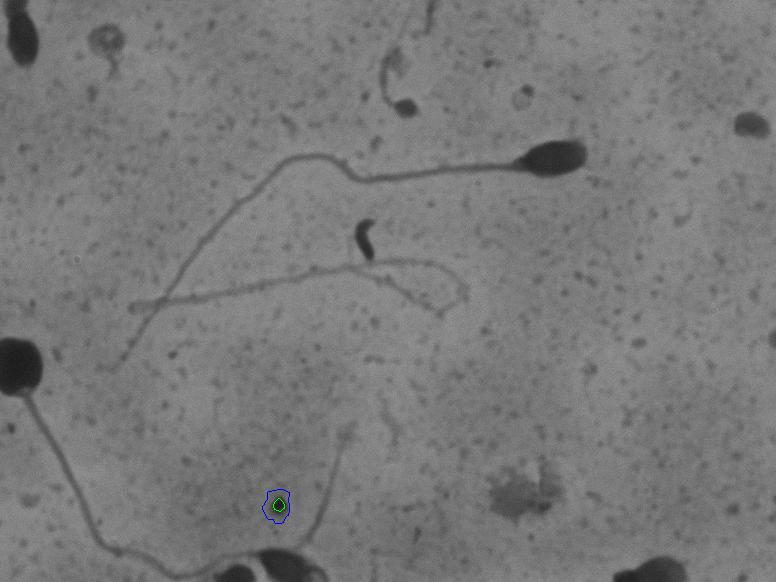Abnormal: (217, 87, 629, 263)
